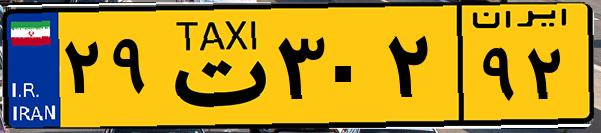0: (330, 28, 385, 110)
2: (385, 28, 445, 110), (57, 26, 110, 100), (525, 38, 570, 115)
3: (270, 28, 330, 110)
9: (475, 38, 525, 113), (110, 28, 158, 98)
ت: (158, 12, 270, 120)
